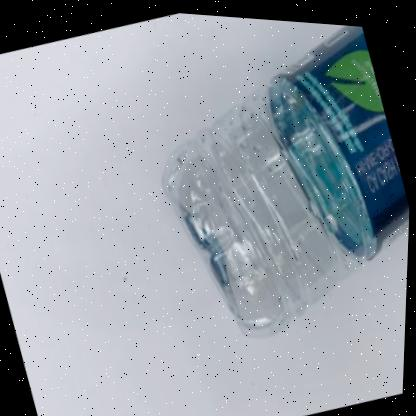Plastic: (164, 20, 411, 332)
